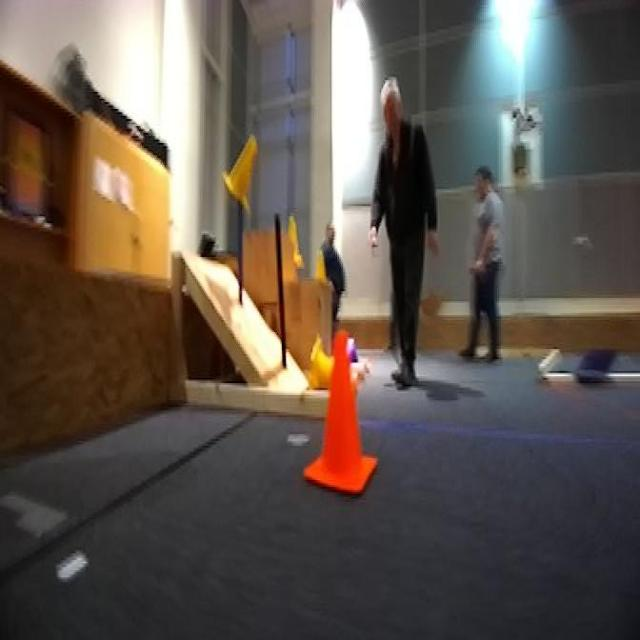frc_cone: (225, 129, 256, 208), (304, 337, 331, 386), (285, 208, 303, 262), (304, 248, 323, 288)
frc_cube: (333, 338, 358, 368)
